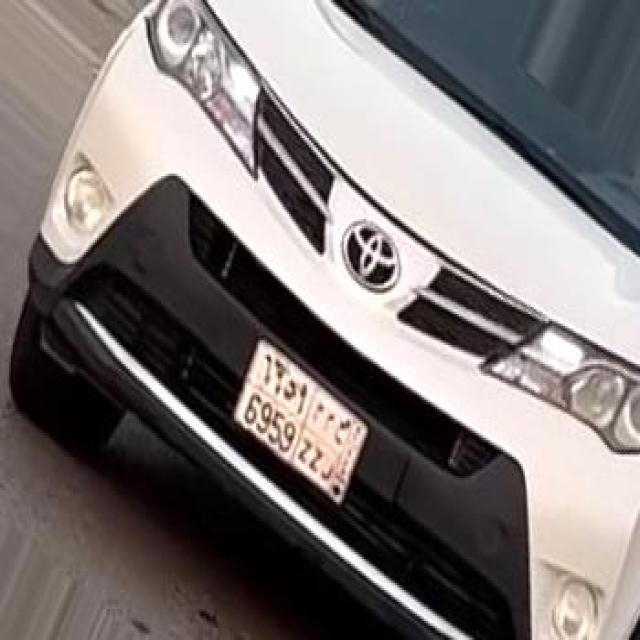Car-plate: (226, 328, 380, 523)
